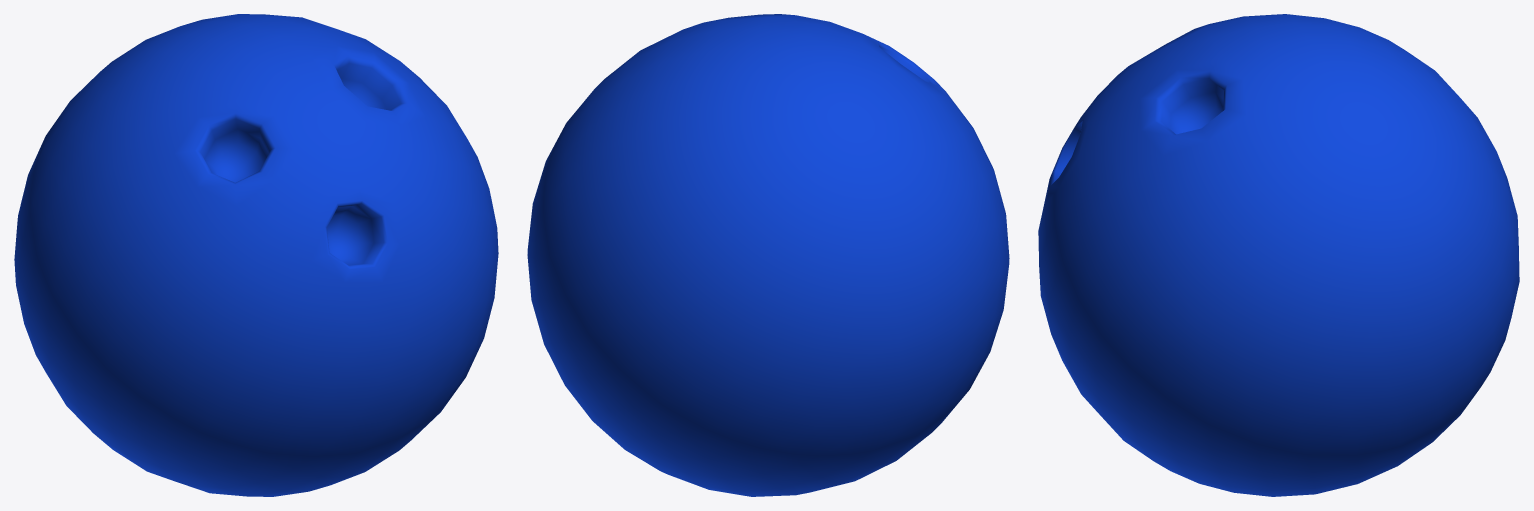
The model's file is bowlingBall1.obj.
The picture shows the model from 3 angles, left to right: view 1: azimuth 30°, elevation 25°; view 2: azimuth 150°, elevation 25°; view 3: azimuth 270°, elevation 25°; orthographic projection.
Parts seen in each view (by area): view 1: bowlingBall1; view 2: bowlingBall1; view 3: bowlingBall1.
Boxes of the visible parts, x1,y1,x2,y2 form: bowlingBall1: (14, 14, 498, 496); bowlingBall1: (527, 14, 1009, 496); bowlingBall1: (1038, 14, 1519, 496).
Bounding box in the file's own units: 0.1724 × 0.1722 × 0.172.
